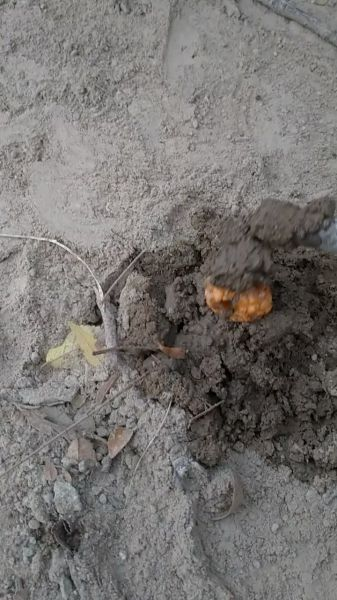eggs: (200, 268, 279, 329)
